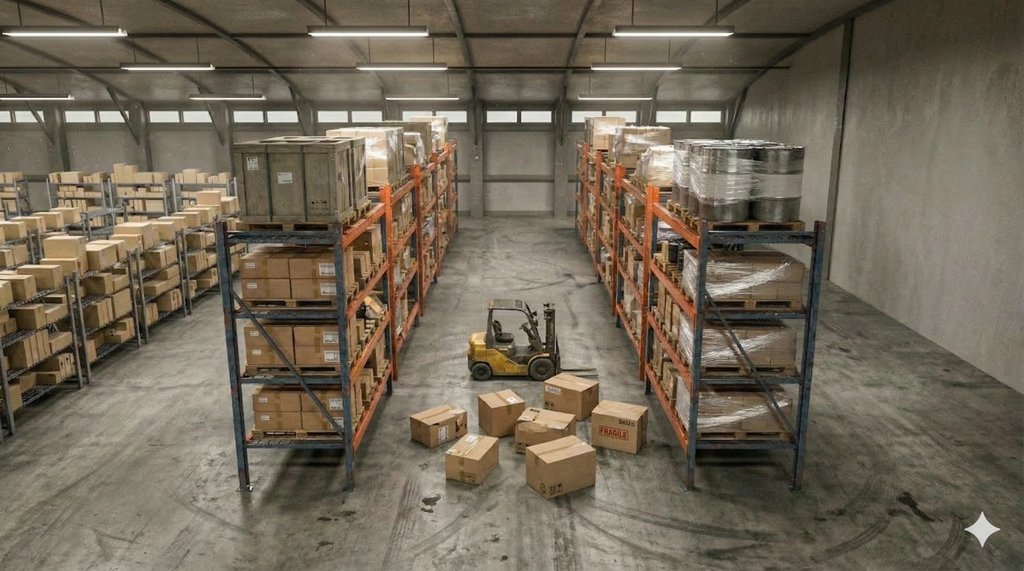forklift: (451, 296, 594, 385)
obstacle: (387, 368, 675, 507)
pallet: (240, 359, 352, 401), (701, 292, 817, 330), (697, 215, 821, 249), (697, 360, 829, 390), (234, 219, 353, 252), (692, 420, 793, 457), (241, 425, 350, 458), (243, 294, 349, 322)
